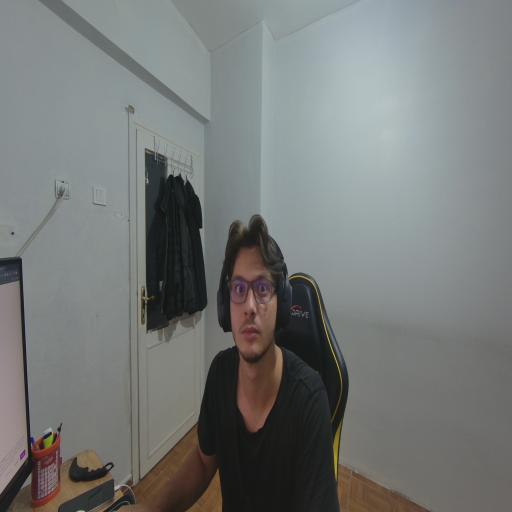cuma-face-v2: (206, 180, 299, 372)
